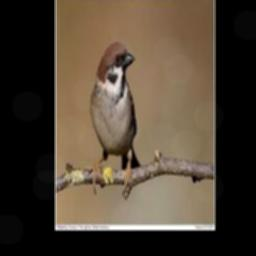Sparrow: (90, 41, 141, 196)
